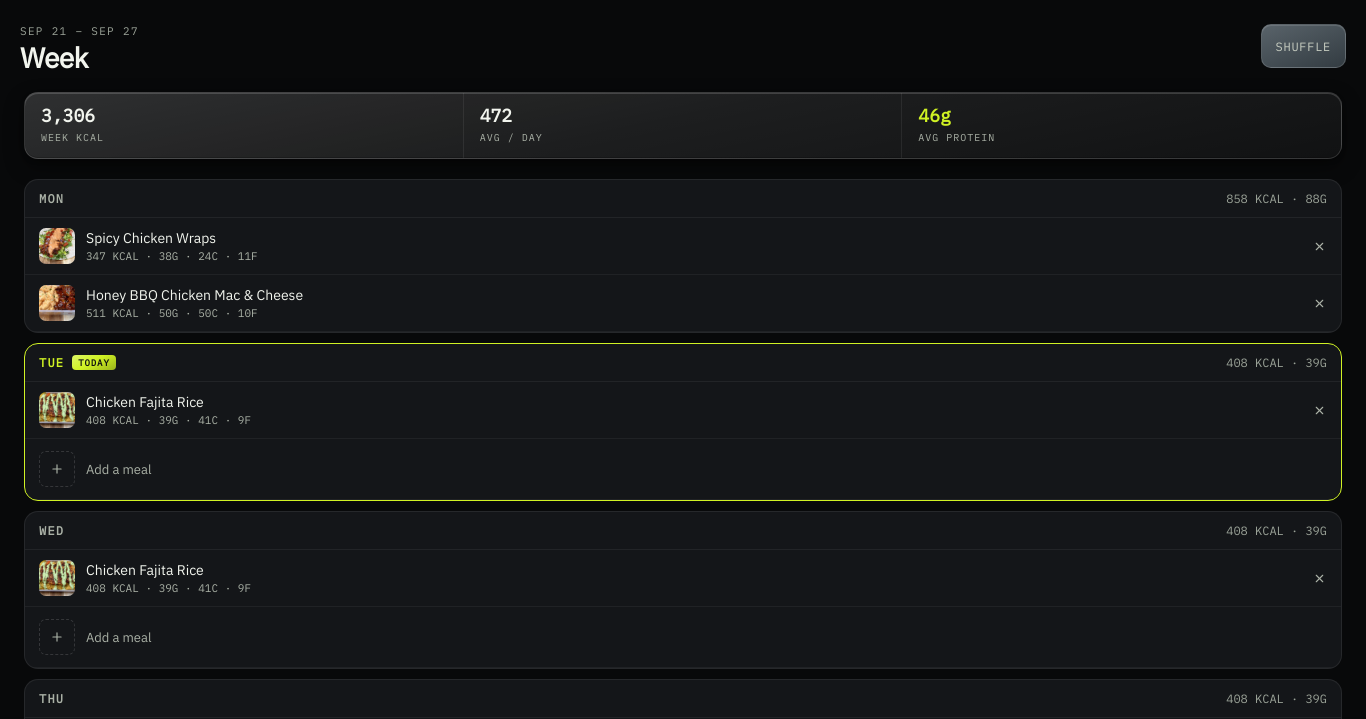
Scenario: editing a day › removes a meal and leaves the slot open
This screenshot has width=1366, height=719.
Click the button named "Remove Spicy Chicken Wraps from Mon". click: [1319, 246]
box: [1297,218,1341,274]
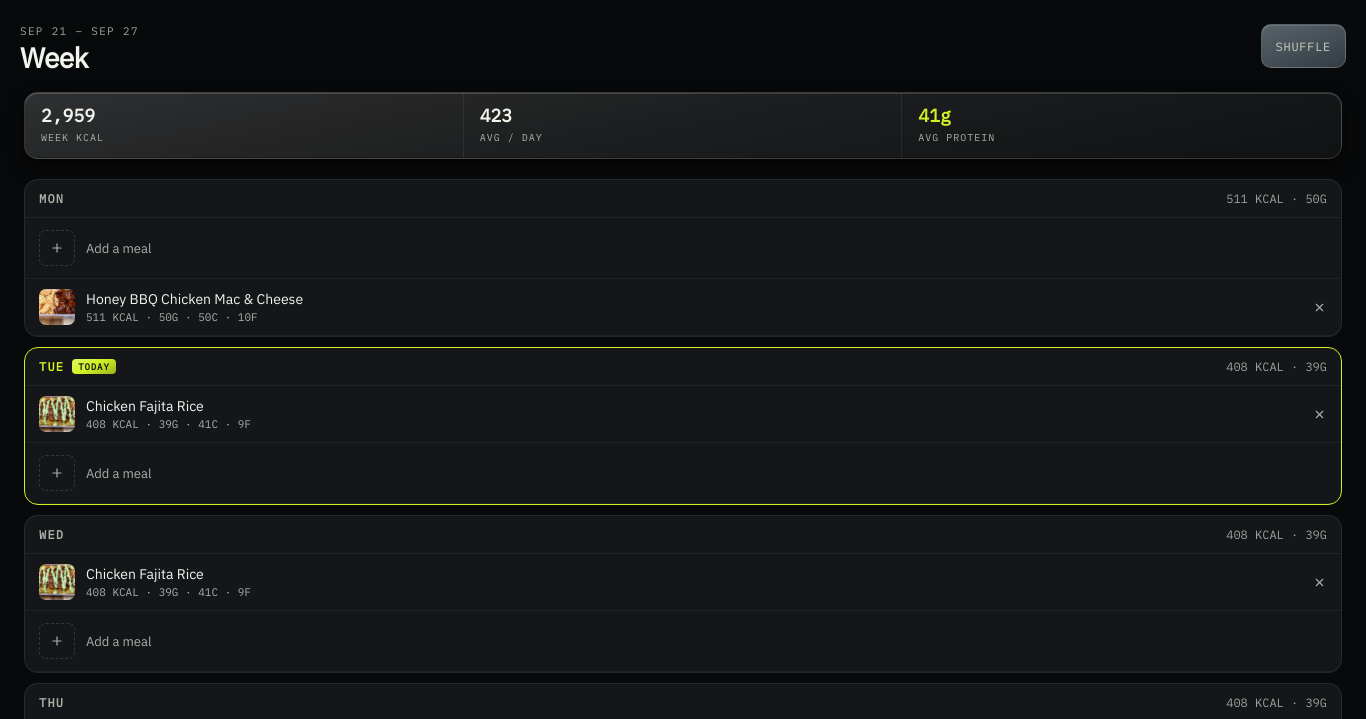
expect the text "Spicy Chicken Wraps" is gone: met
